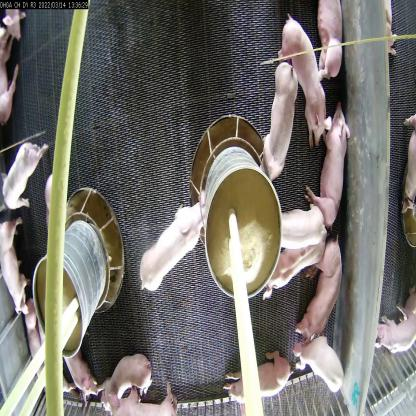Pig: (136, 192, 213, 299), (284, 8, 330, 134), (298, 236, 348, 343), (306, 110, 350, 220), (226, 352, 294, 415), (264, 57, 296, 179), (263, 238, 328, 291), (296, 335, 344, 401), (314, 0, 346, 93), (0, 19, 26, 133), (5, 143, 42, 223), (0, 228, 32, 319), (95, 348, 150, 384), (275, 206, 318, 251), (69, 353, 101, 404), (114, 391, 177, 415), (36, 168, 66, 214)
